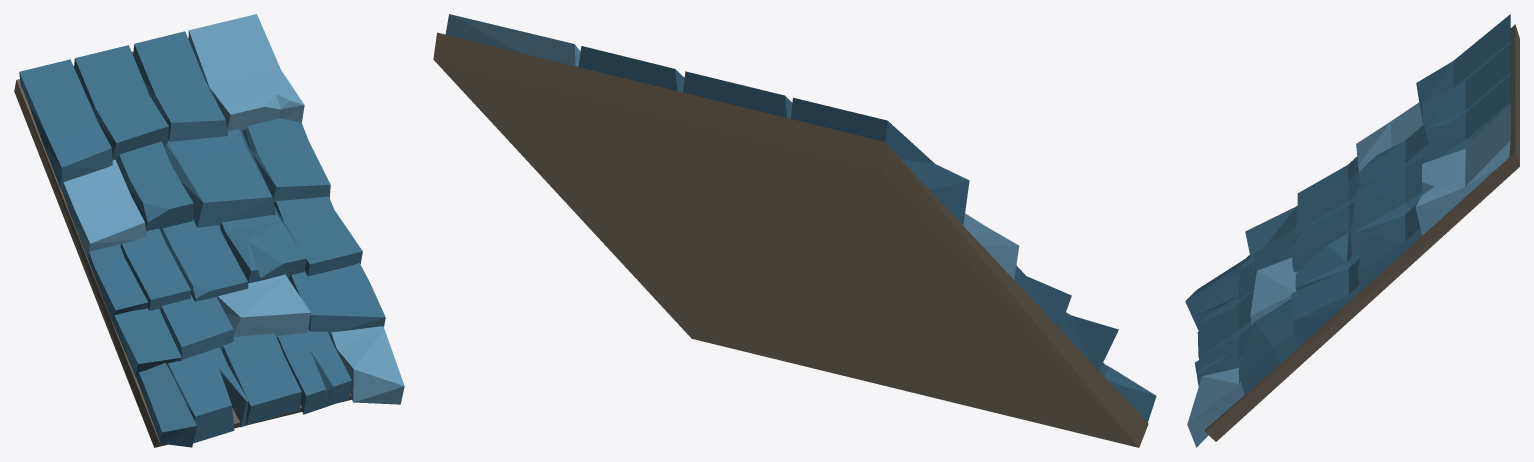
File: ROOF_base_1.fbx
3 views of the same model, side by side, from view 1: azimuth 30°, elevation 25°; view 2: azimuth 150°, elevation 25°; view 3: azimuth 270°, elevation 25° (orthographic). The views are drawn at different scales.
Parts seen in each view (by area): view 1: ROOF_base_1; view 2: ROOF_base_1; view 3: ROOF_base_1.
Boxes of the visible parts, x1,y1,x2,y2 form: ROOF_base_1: [14, 14, 404, 447]; ROOF_base_1: [433, 14, 1156, 447]; ROOF_base_1: [1185, 14, 1519, 447].
Bounding box in the file's own units: 101 × 112 × 110.
